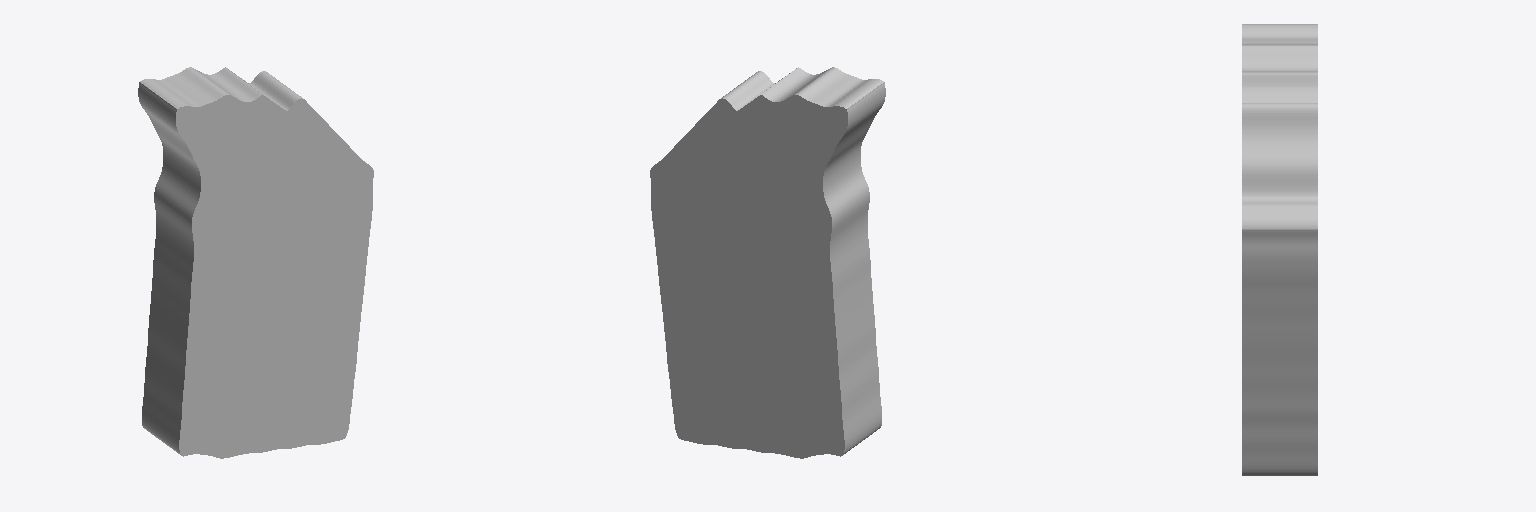
3 renders of one model, left to right at view 1: azimuth 30°, elevation 25°; view 2: azimuth 150°, elevation 25°; view 3: azimuth 270°, elevation 25°, orthographic.
Visible parts, largest first — view 1: 平面; view 2: 平面; view 3: 平面.
Boxes of the visible parts, box(x1,y1,x2,y2) form: 平面: box(138, 67, 373, 458); 平面: box(650, 67, 885, 458); 平面: box(1242, 24, 1317, 475).
Size of the model in its own units: 0.6081 by 1.1 by 0.2.